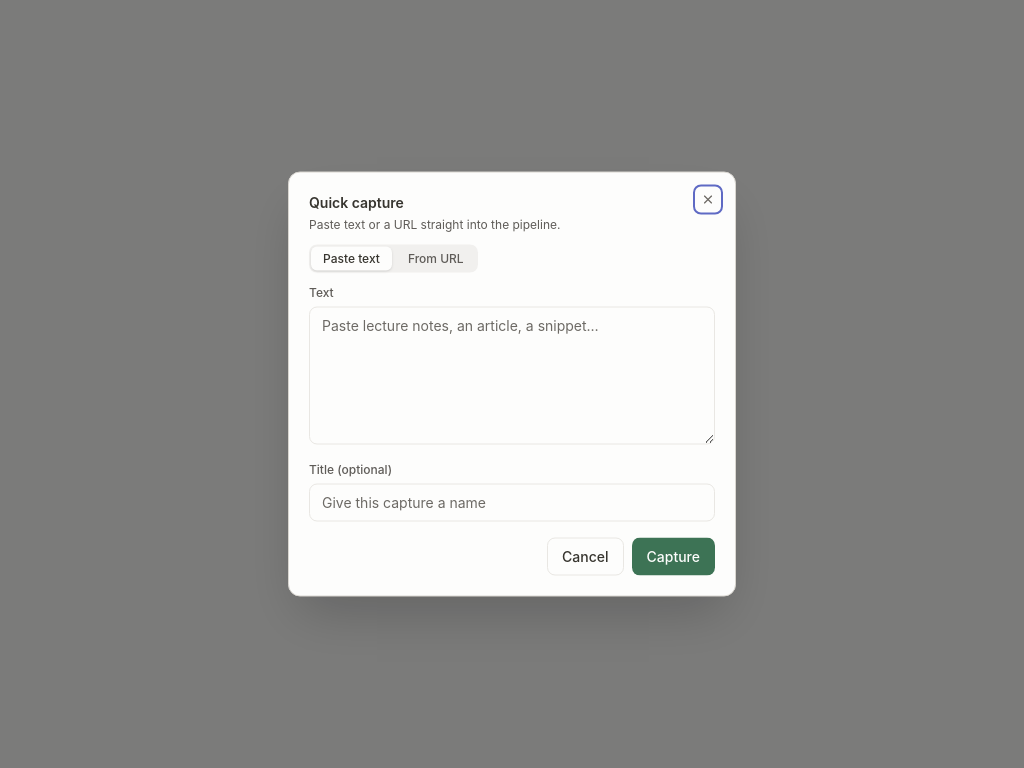
it: QuickCaptureModal › shows a field error instead of submitting when the active field is empty
This screenshot has width=1024, height=768.
Click the button "Capture" at (673, 556), box [632,538,715,576]
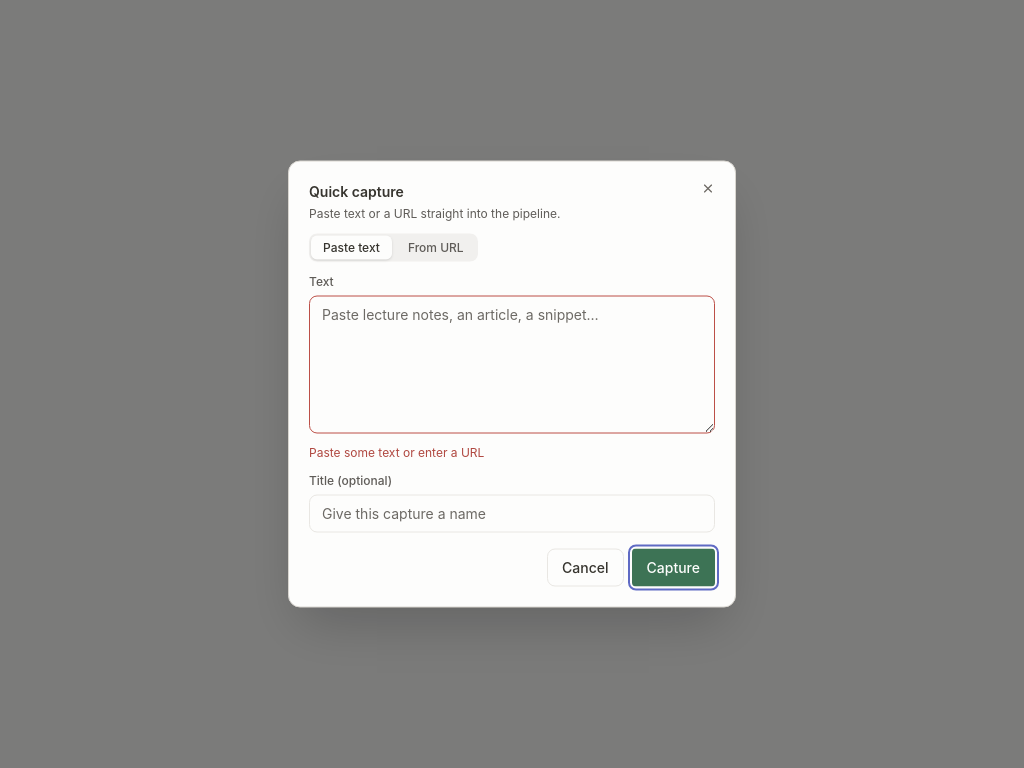
expect the text "Paste some text or enter a URL" is shown: met, box [309,444,484,460]
